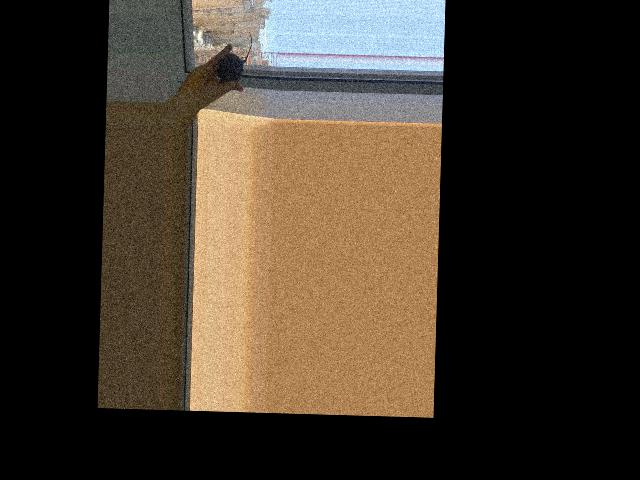beet: (216, 30, 252, 81)
